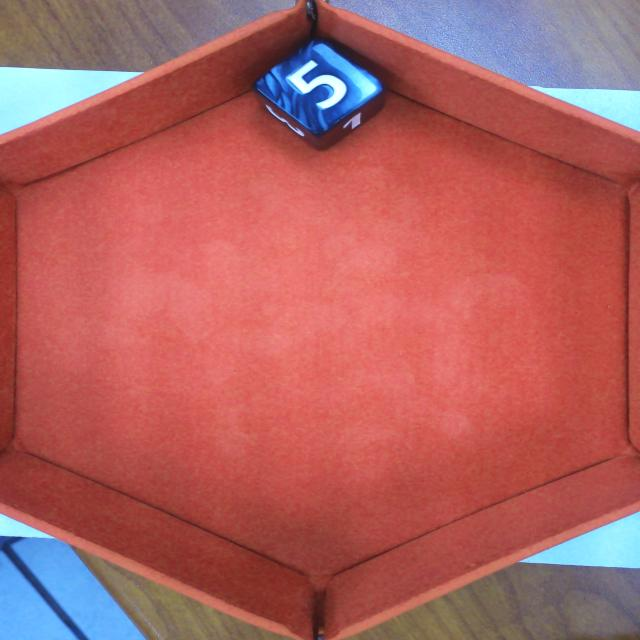dice: (246, 31, 392, 140)
